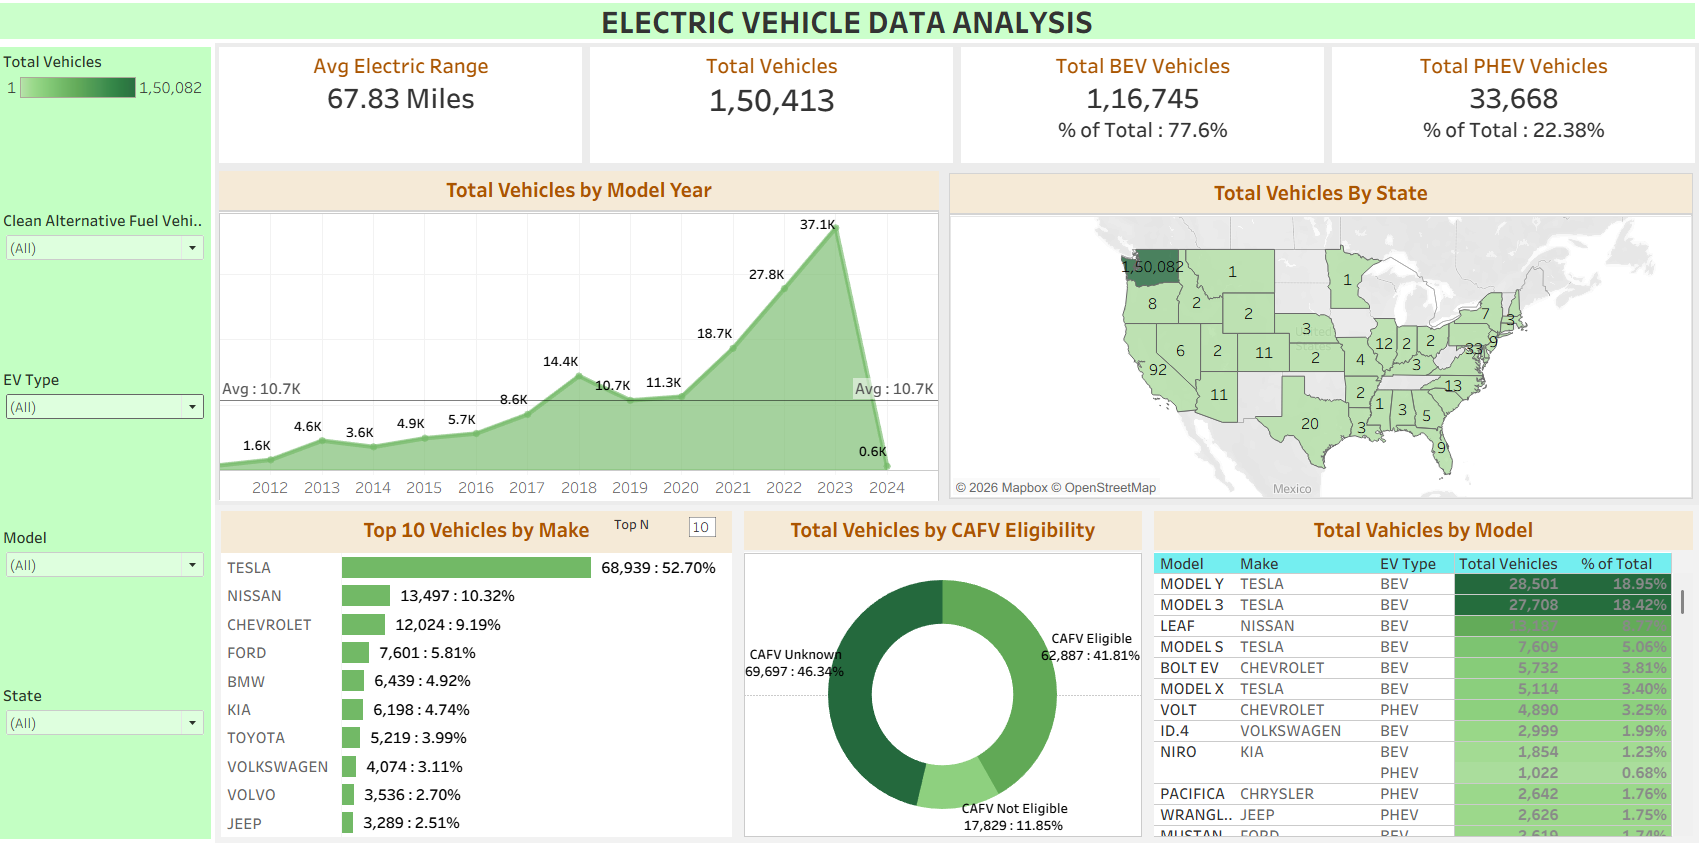

The dashboard page shown, as its layout file describes it:
{"tool":"tableau","page":{"name":"Dashboard 1","canvas":[1000,1000],"units":"permille","ordinal":0},"visuals":[{"type":"title","box":[4.7,10.2,990.7,51]},{"type":"worksheet","title":"Avg Electric Range","mark":"Automatic","box":[132.6,61.1,215.7,144]},{"type":"worksheet","title":"Total Vehicles","mark":"Automatic","box":[348.3,61.1,215.7,144]},{"type":"worksheet","title":"Total BEV Vehicles","mark":"Automatic","box":[564,61.1,215.7,144]},{"type":"worksheet","title":"Total PHEV Vehicles","mark":"Automatic","box":[779.6,61.1,215.7,144]},{"type":"legend","title":"Total Vehicles By State","param":"[federated.0xqtgfn1hu21n71auy5ob0d1uiiz].[usr:Calculation_1721875084570624:qk]","box":[7,66.2,123.2,154.1]},{"type":"worksheet","title":"Total Vehicles by Model Year","mark":"Area","rows":["Calculation_1721875084570624","Calculation_1721875084570624"],"cols":["Model Year"],"box":[132.6,205.6,423.2,392.1]},{"type":"worksheet","title":"Total Vehicles By State","mark":"Multipolygon","box":[555.8,205.6,439.5,392.1]},{"type":"filter","title":"Total Vehicles by Model Year","param":"[federated.0xqtgfn1hu21n71auy5ob0d1uiiz].[none:Clean Alternative Fuel Vehicle (C","box":[7,220.4,123.2,152.9]},{"type":"filter","title":"Total Vehicles by Model Year","param":"[federated.0xqtgfn1hu21n71auy5ob0d1uiiz].[none:Electric Vehicle Type:nk]","box":[7,373.2,123.2,152.9]},{"type":"filter","title":"Total Vehicles by Model Year","param":"[federated.0xqtgfn1hu21n71auy5ob0d1uiiz].[none:Model:nk]","box":[7,526.1,123.2,152.9]},{"type":"worksheet","title":"Top 10 Vehicles by Make","mark":"Automatic","rows":["Make"],"cols":["Calculation_1721875084570624"],"box":[132.6,597.7,304.1,392.1]},{"type":"worksheet","title":"Total Vehicles by CAFV Eligibility","mark":"Pie","rows":["Calculation_1721875107692551","Calculation_1721875107692551"],"box":[436.6,597.7,238.4,392.1]},{"type":"worksheet","title":"Total Vahicles by Model","mark":"Square","rows":["Model","Make","Electric Vehicle Type"],"box":[675,597.7,320.4,392.1]},{"type":"parameter","param":"[Parameters].[Parameter 1]","box":[364.5,607.6,61.1,44.6]},{"type":"filter","title":"Total Vehicles by Model Year","param":"[federated.0xqtgfn1hu21n71auy5ob0d1uiiz].[none:State:nk]","box":[7,679,123.2,152.9]},{"type":"blank","box":[7,831.9,123.2,152.9]}]}

Visuals, with their boxes on the dashboard's canvas, which has no fixed pixel size, in thousandths of its width and height (x1, y1, x2, y2). These are canvas units, not pixel positions in the 1700x843 screenshot, which may show the page scaled, cropped or inside an application window:
title: crop(5, 10, 995, 61)
"Avg Electric Range" worksheet: crop(133, 61, 348, 205)
"Total Vehicles" worksheet: crop(348, 61, 564, 205)
"Total BEV Vehicles" worksheet: crop(564, 61, 780, 205)
"Total PHEV Vehicles" worksheet: crop(780, 61, 995, 205)
"Total Vehicles By State" legend: crop(7, 66, 130, 220)
"Total Vehicles by Model Year" worksheet (Area marks): crop(133, 206, 556, 598)
"Total Vehicles By State" worksheet (Multipolygon marks): crop(556, 206, 995, 598)
"Total Vehicles by Model Year" filter: crop(7, 220, 130, 373)
"Total Vehicles by Model Year" filter: crop(7, 373, 130, 526)
"Total Vehicles by Model Year" filter: crop(7, 526, 130, 679)
"Top 10 Vehicles by Make" worksheet: crop(133, 598, 437, 990)
"Total Vehicles by CAFV Eligibility" worksheet (Pie marks): crop(437, 598, 675, 990)
"Total Vahicles by Model" worksheet (Square marks): crop(675, 598, 995, 990)
parameter: crop(364, 608, 426, 652)
"Total Vehicles by Model Year" filter: crop(7, 679, 130, 832)
blank: crop(7, 832, 130, 985)
